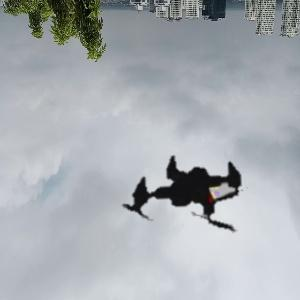drone: (97, 111, 279, 293)
